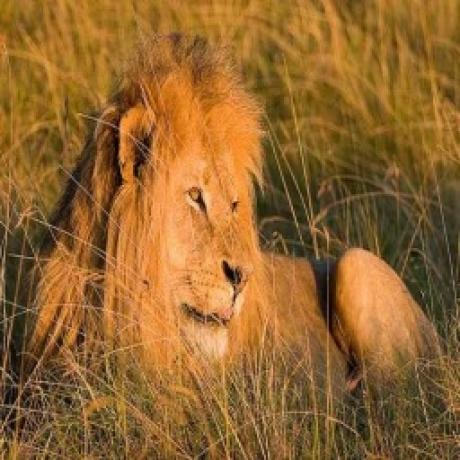Lion: (27, 57, 448, 393)
